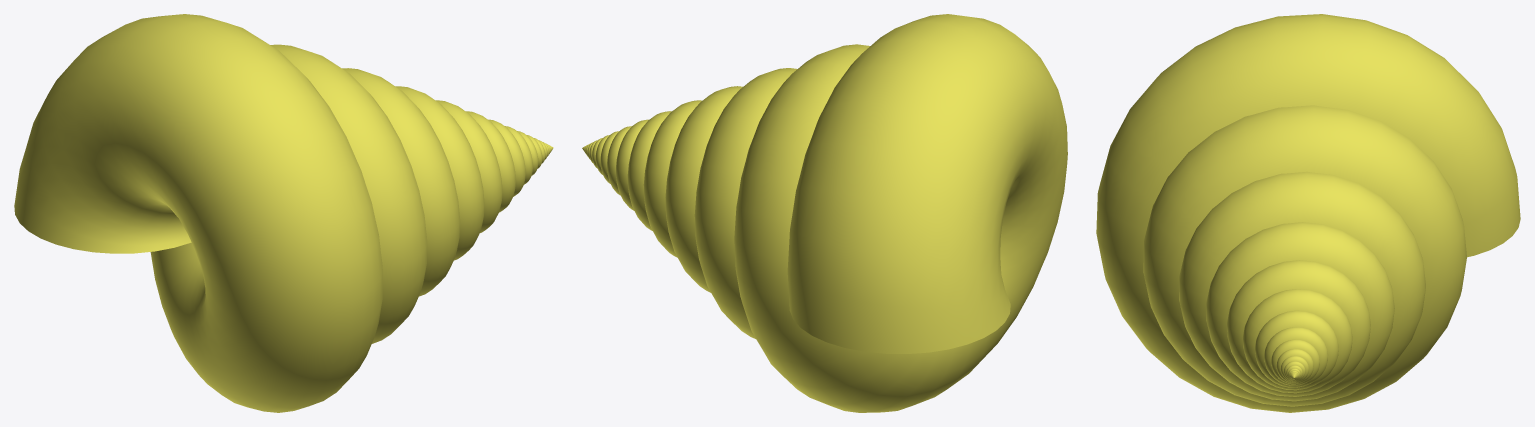
3 renders of one model, left to right at view 1: azimuth 30°, elevation 25°; view 2: azimuth 150°, elevation 25°; view 3: azimuth 270°, elevation 25°, orthographic. The views are drawn at different scales.
Parts seen in each view (by area): view 1: t16; view 2: t16; view 3: t16.
Part boxes in pixels (left/top/right/bottom): t16: left=14, top=14, right=553, bottom=412; t16: left=582, top=14, right=1067, bottom=412; t16: left=1096, top=14, right=1520, bottom=412.
Bounding box in the file's own units: 500 × 382 × 409.
